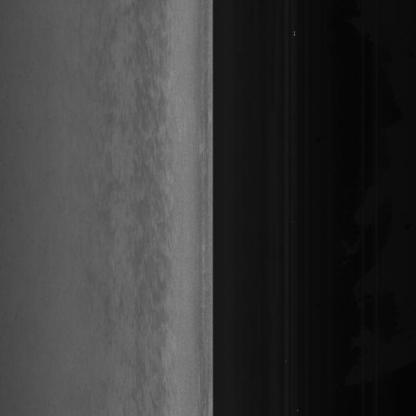silk_spot: (133, 27, 176, 364)
